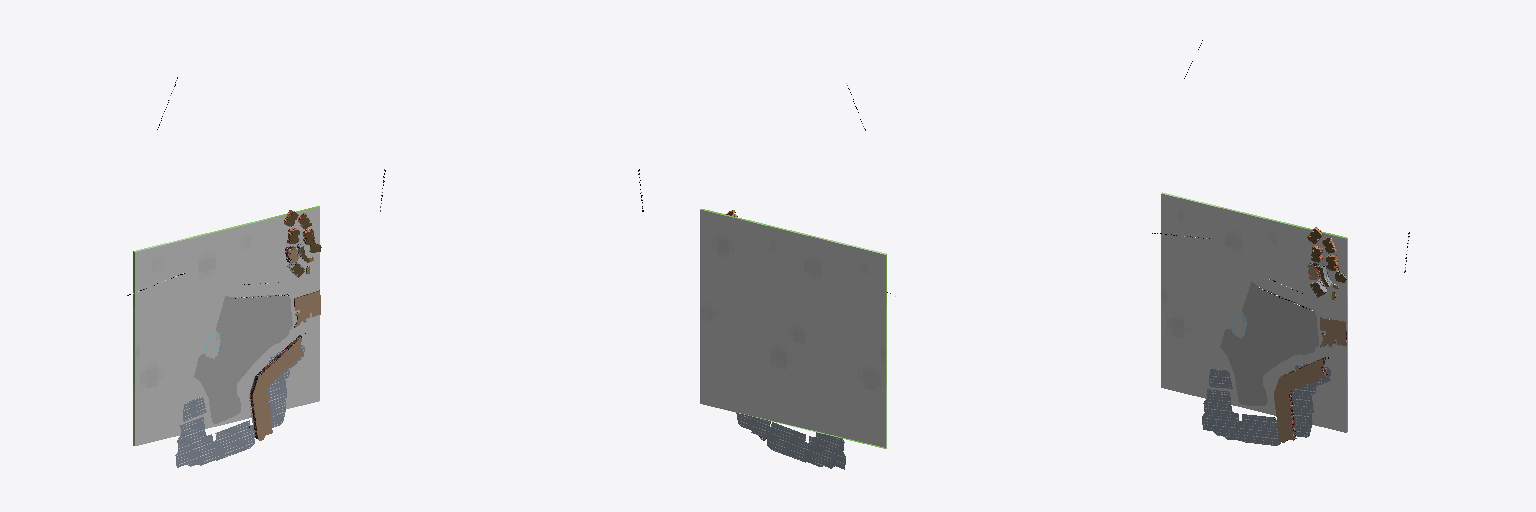
The picture shows the model from 3 angles: view 1: azimuth 30°, elevation 25°; view 2: azimuth 150°, elevation 25°; view 3: azimuth 330°, elevation 25°; orthographic projection.
Visible parts, largest first — view 1: POLYGON, BUILDING; view 2: POLYGON; view 3: POLYGON, BUILDING.
Part boxes in pixels (bbox=[...]): POLYGON: bbox=[133, 206, 319, 467]; BUILDING: bbox=[250, 210, 321, 440]; POLYGON: bbox=[700, 209, 886, 469]; POLYGON: bbox=[1161, 192, 1347, 445]; BUILDING: bbox=[1274, 227, 1346, 442].
Bounding box in the file's own units: 850 × 1242 × 29.
Materials: 4 (4 with a texture image).